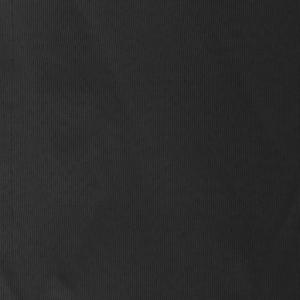Wrinkle: (43, 1, 167, 161), (178, 2, 289, 178), (233, 186, 300, 300), (1, 247, 24, 300)
